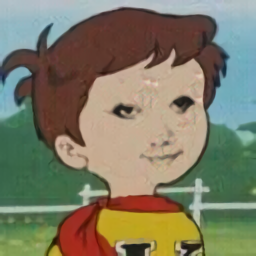dragon: (108, 84, 194, 168)
